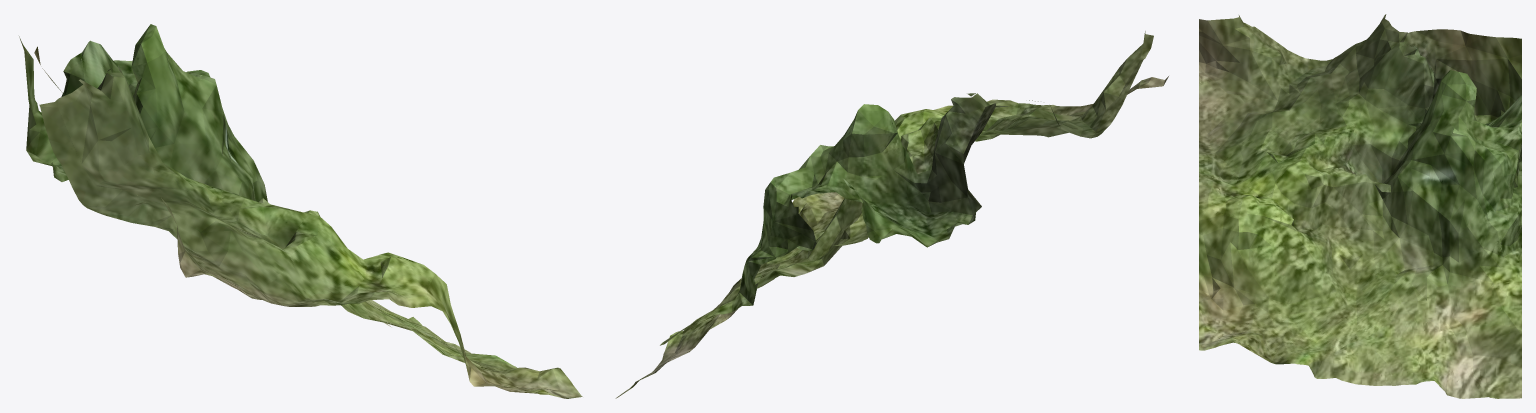
3 views of the same model, side by side, from view 1: azimuth 30°, elevation 25°; view 2: azimuth 150°, elevation 25°; view 3: azimuth 270°, elevation 25° (orthographic). The views are drawn at different scales.
Size of the model in its own units: 2.95 by 2.51 by 2.95.
Materials: 4 (4 with a texture image).
